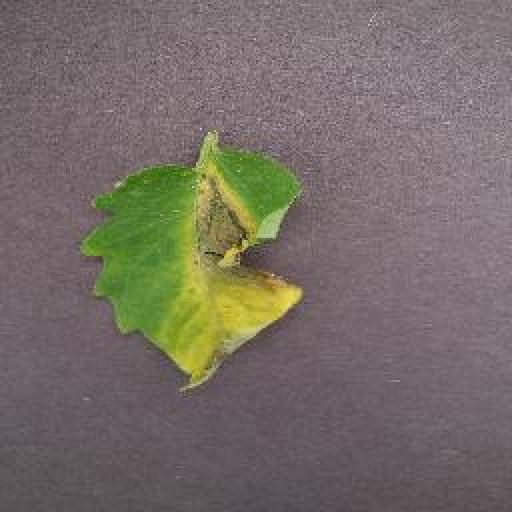Late Blight: (78, 152, 310, 389)
